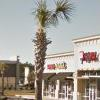Palm tree: (24, 3, 62, 90)
